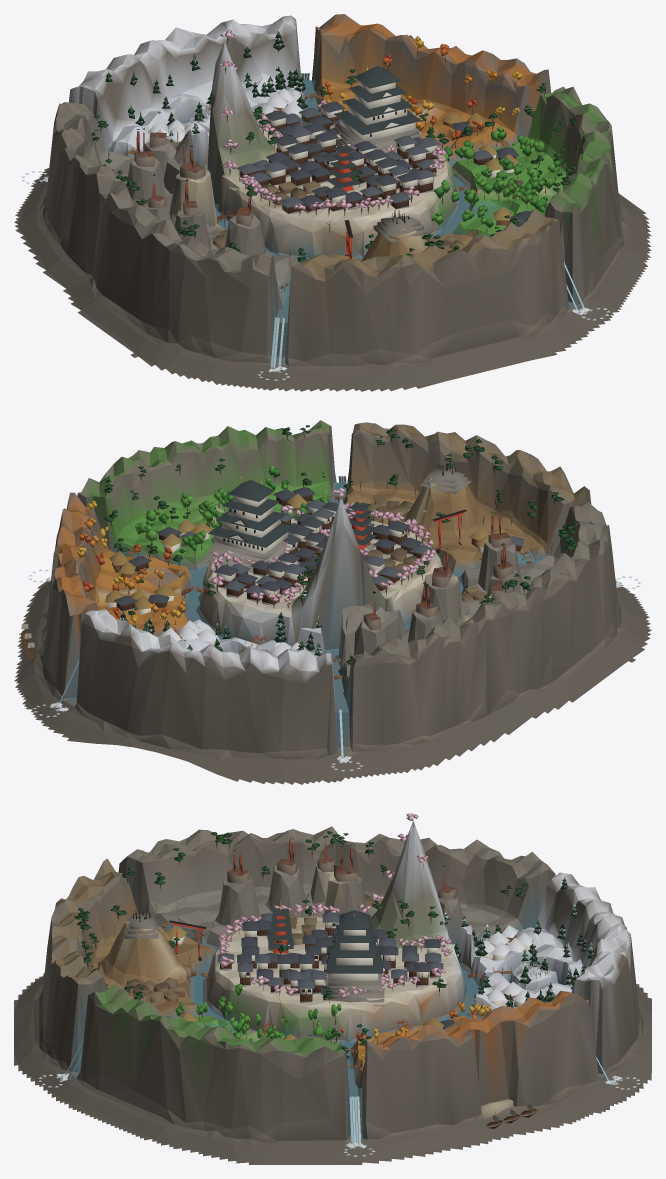
3 views of the same model, one above another, from view 1: azimuth 30°, elevation 25°; view 2: azimuth 150°, elevation 25°; view 3: azimuth 270°, elevation 25° (orthographic). The views are drawn at different scales.
Visible parts, largest first — view 1: BASE, VILLE_2, VILLE_3, VILLE_4; view 2: BASE, VILLE_2, VILLE_3, VILLE_4; view 3: BASE, VILLE_2, VILLE_3, VILLE_4.
Boxes of the visible parts, bbox=[...] form: BASE: bbox=[14, 14, 651, 391]; VILLE_2: bbox=[91, 65, 579, 291]; VILLE_3: bbox=[101, 53, 562, 260]; VILLE_4: bbox=[326, 137, 360, 192]; BASE: bbox=[14, 420, 651, 784]; VILLE_2: bbox=[21, 435, 577, 682]; VILLE_3: bbox=[83, 479, 537, 656]; VILLE_4: bbox=[349, 494, 377, 552]; BASE: bbox=[14, 813, 651, 1164]; VILLE_2: bbox=[74, 831, 572, 1129]; VILLE_3: bbox=[110, 863, 593, 1049]; VILLE_4: bbox=[268, 900, 293, 954].
Bounding box in the file's own units: 71.43 × 25.75 × 76.01.
